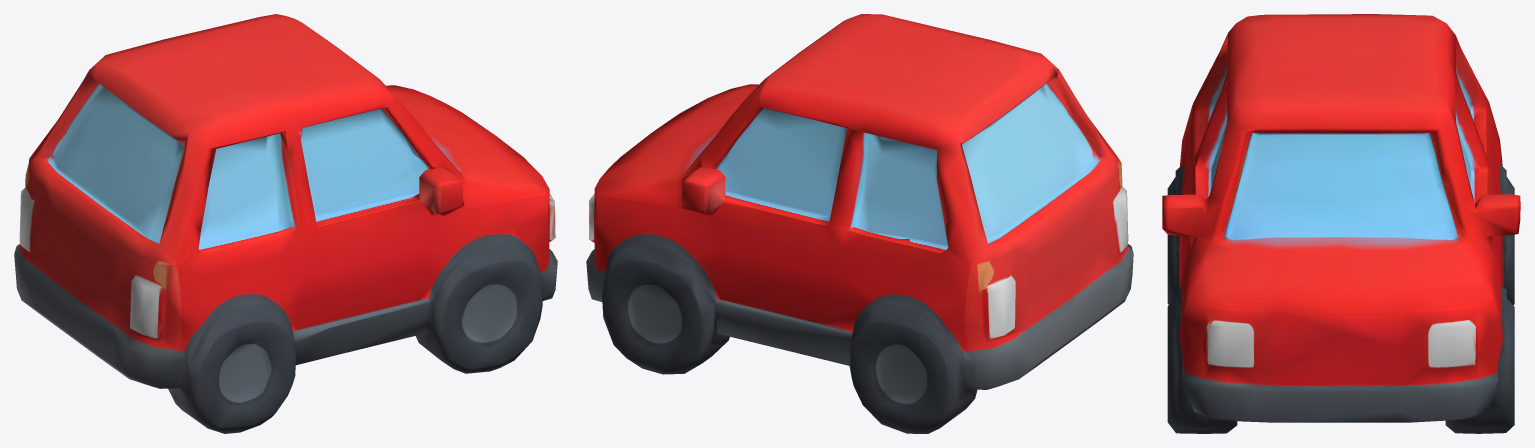
Rendered from car_red.glb.
The picture shows the model from 3 angles, left to right: view 1: azimuth 30°, elevation 25°; view 2: azimuth 150°, elevation 25°; view 3: azimuth 270°, elevation 25°; orthographic projection.
Parts seen in each view (by area): view 1: tripo_node_15baa2bc-201d-4efd-b1fe-d962d6dba5b1; view 2: tripo_node_15baa2bc-201d-4efd-b1fe-d962d6dba5b1; view 3: tripo_node_15baa2bc-201d-4efd-b1fe-d962d6dba5b1.
Boxes of the visible parts, x1,y1,x2,y2 form: tripo_node_15baa2bc-201d-4efd-b1fe-d962d6dba5b1: [14, 14, 557, 433]; tripo_node_15baa2bc-201d-4efd-b1fe-d962d6dba5b1: [586, 14, 1133, 433]; tripo_node_15baa2bc-201d-4efd-b1fe-d962d6dba5b1: [1162, 14, 1520, 433].
Bounding box in the file's own units: 0.9998 × 0.6498 × 0.724.
1 material, 1 textured.
